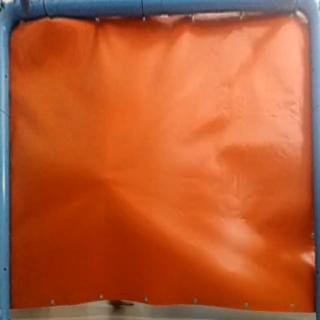Hit-hRxx: (99, 171, 118, 187)
